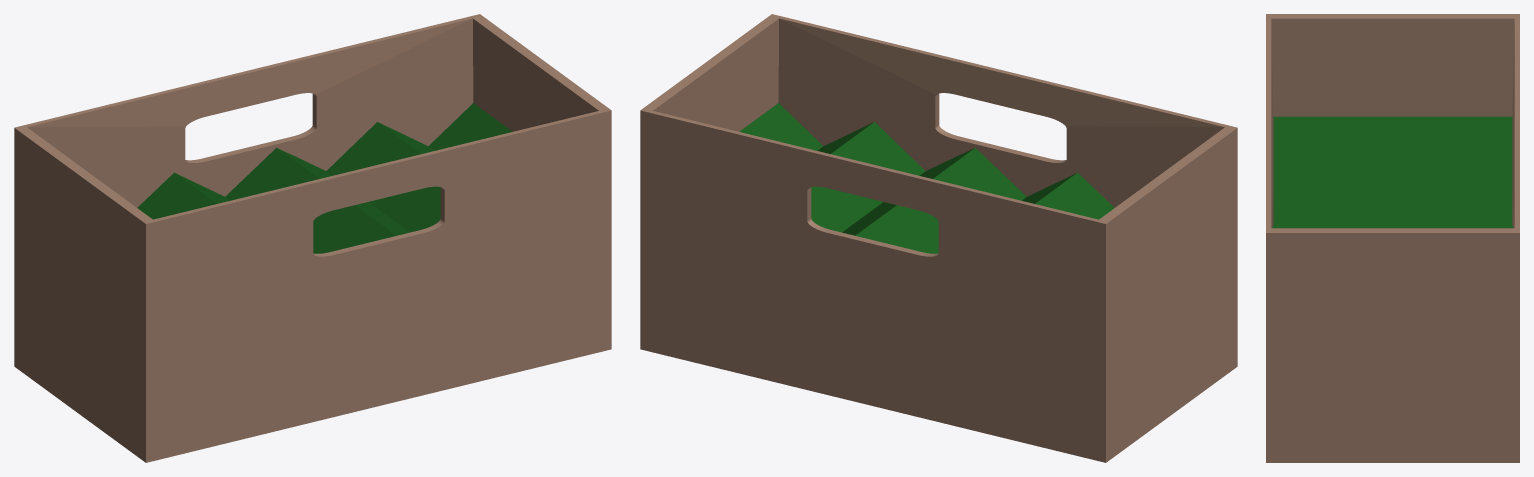
The model's file is ProduceBox.fbx.
The picture shows the model from 3 angles, left to right: view 1: azimuth 30°, elevation 25°; view 2: azimuth 150°, elevation 25°; view 3: azimuth 270°, elevation 25°; orthographic projection. The views are drawn at different scales.
Visible parts, largest first — view 1: Produce Box, PlantFilling; view 2: Produce Box, PlantFilling; view 3: Produce Box, PlantFilling.
Boxes of the visible parts, x1,y1,x2,y2 form: Produce Box: (14, 14, 611, 462); PlantFilling: (137, 103, 512, 253); Produce Box: (640, 14, 1237, 462); PlantFilling: (739, 103, 1114, 253); Produce Box: (1266, 14, 1519, 462); PlantFilling: (1273, 116, 1512, 228).
Bounding box in the file's own units: 408 × 200 × 200.
